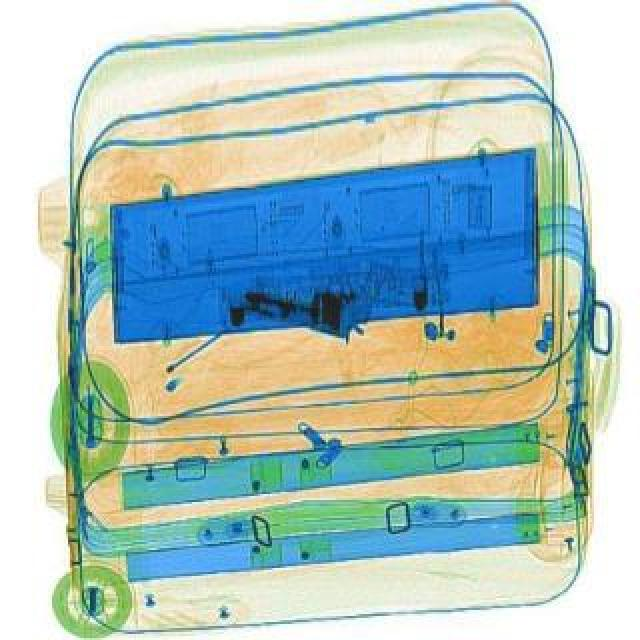gun: (228, 260, 392, 336)
